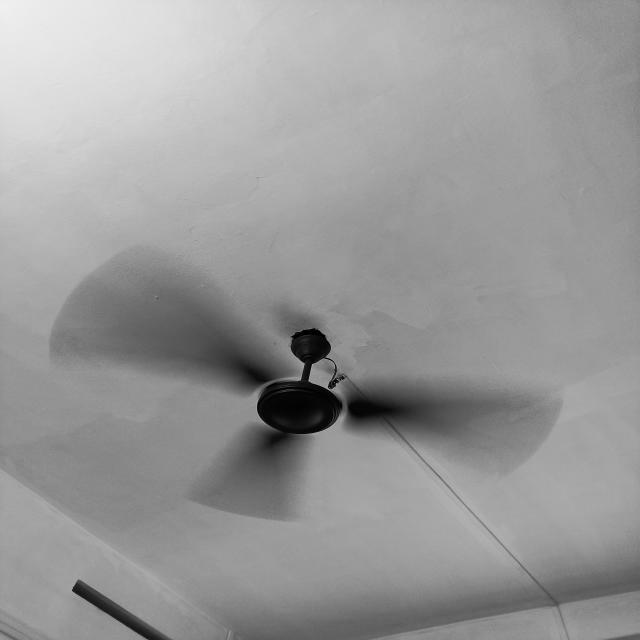fan: (36, 240, 568, 529)
light: (255, 327, 344, 435)
